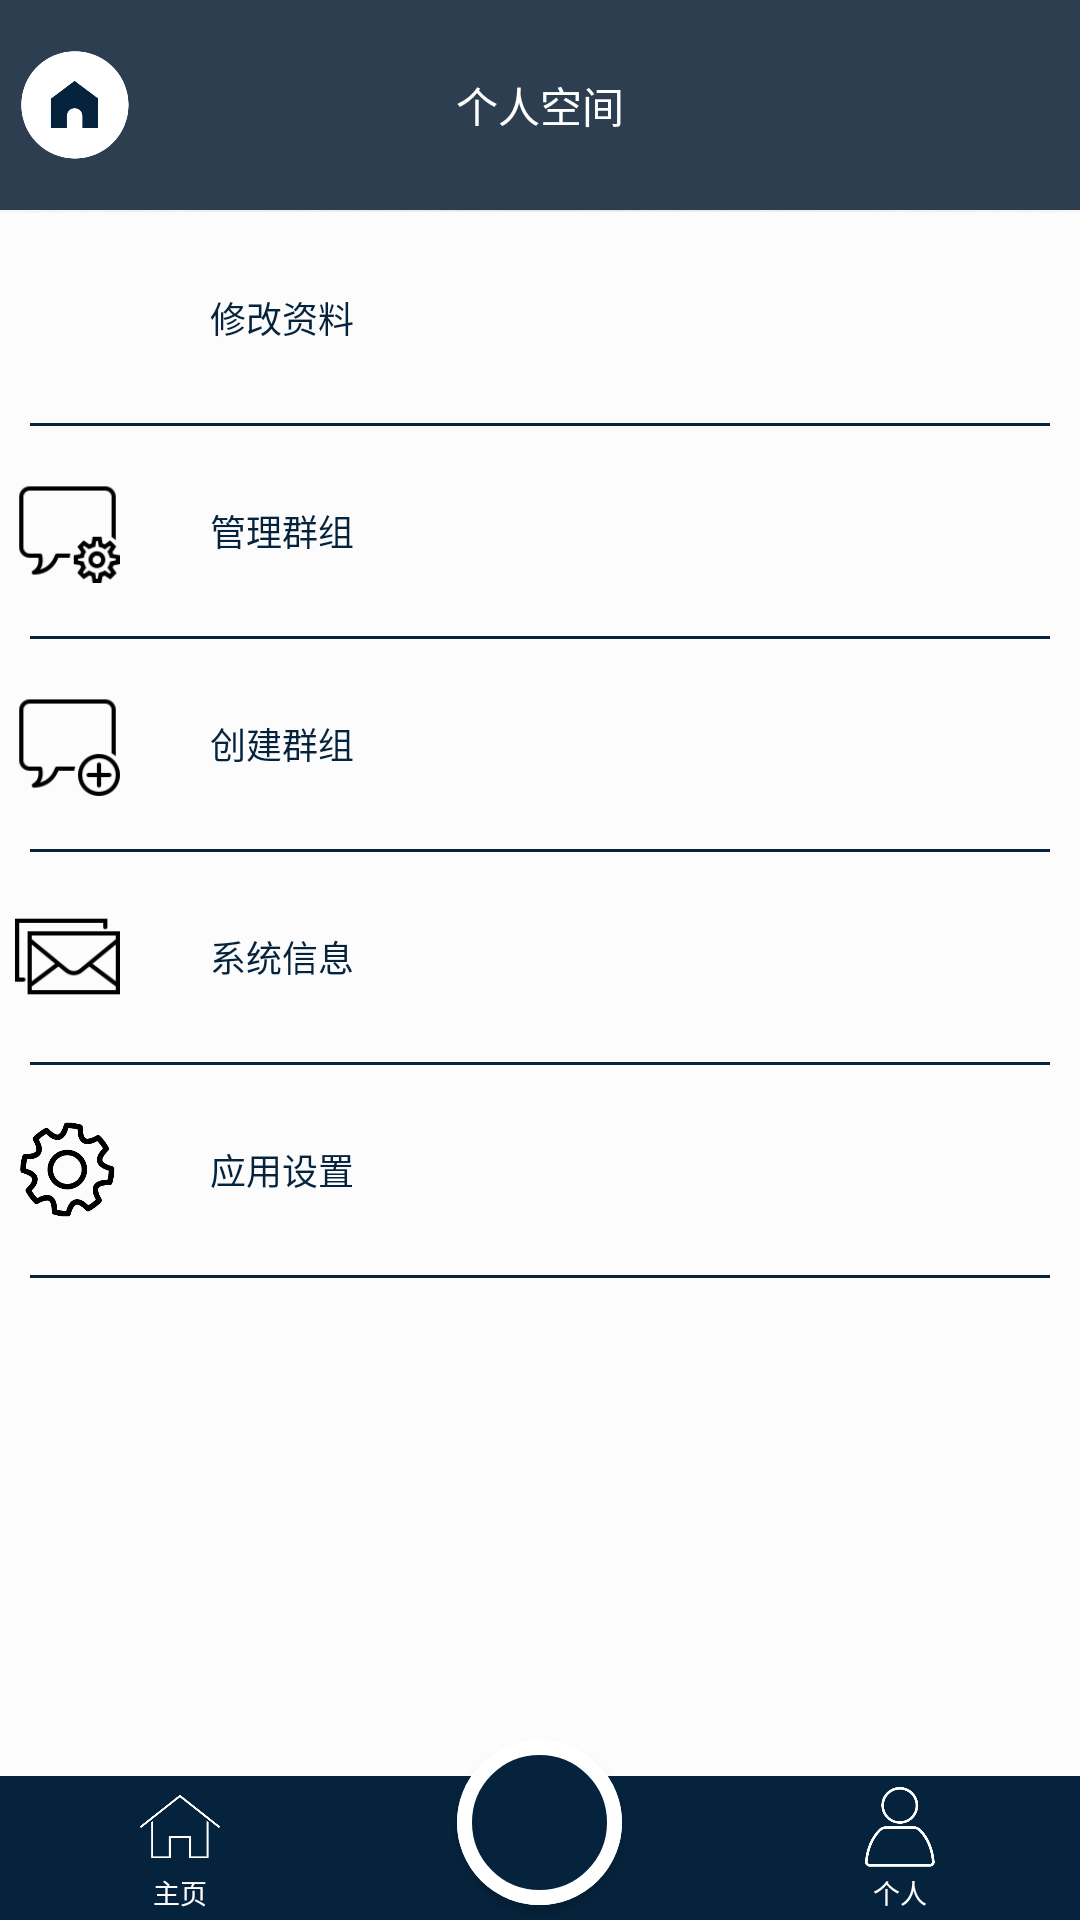

Screen size 1080×1920. Icon name, then its box in pixels as box=[x1, y1, x2, y2]:
group create: box=[19, 699, 120, 796]
group manage: box=[19, 486, 120, 583]
mails: box=[15, 918, 120, 995]
person space main: box=[21, 51, 129, 159]
space sys set: box=[20, 1122, 115, 1217]
